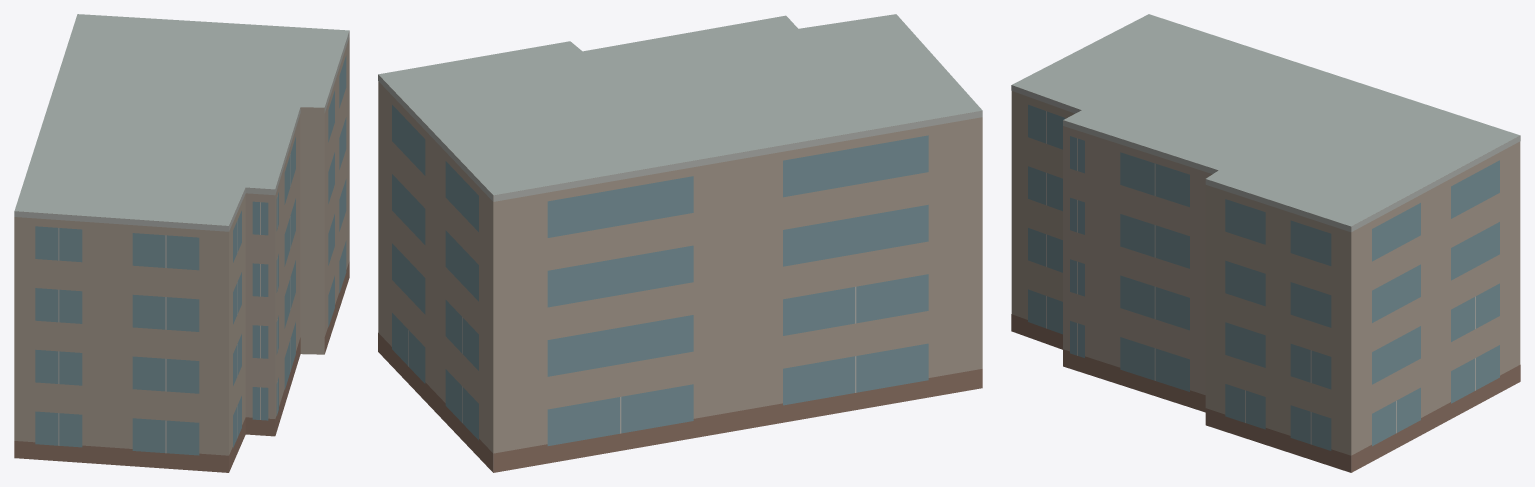
The model's file is survey-upis-32859065.glb.
3 views of the same model, side by side, from view 1: azimuth 30°, elevation 25°; view 2: azimuth 150°, elevation 25°; view 3: azimuth 270°, elevation 25° (orthographic). The views are drawn at different scales.
Visible parts, largest first — view 1: survey-upis-32859065.tmp; view 2: survey-upis-32859065.tmp; view 3: survey-upis-32859065.tmp.
Part boxes in pixels (x1,y1,x2,y2): survey-upis-32859065.tmp: (14, 14, 349, 472); survey-upis-32859065.tmp: (378, 14, 982, 472); survey-upis-32859065.tmp: (1011, 14, 1520, 472).
Bounding box in the file's own units: 19.16 × 10.35 × 19.38.
